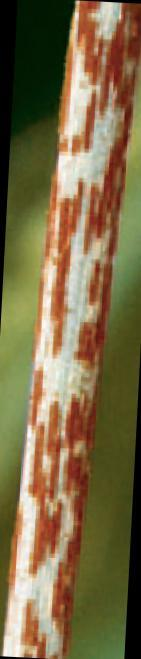Wheat: (34, 11, 138, 371), (9, 371, 95, 654)
